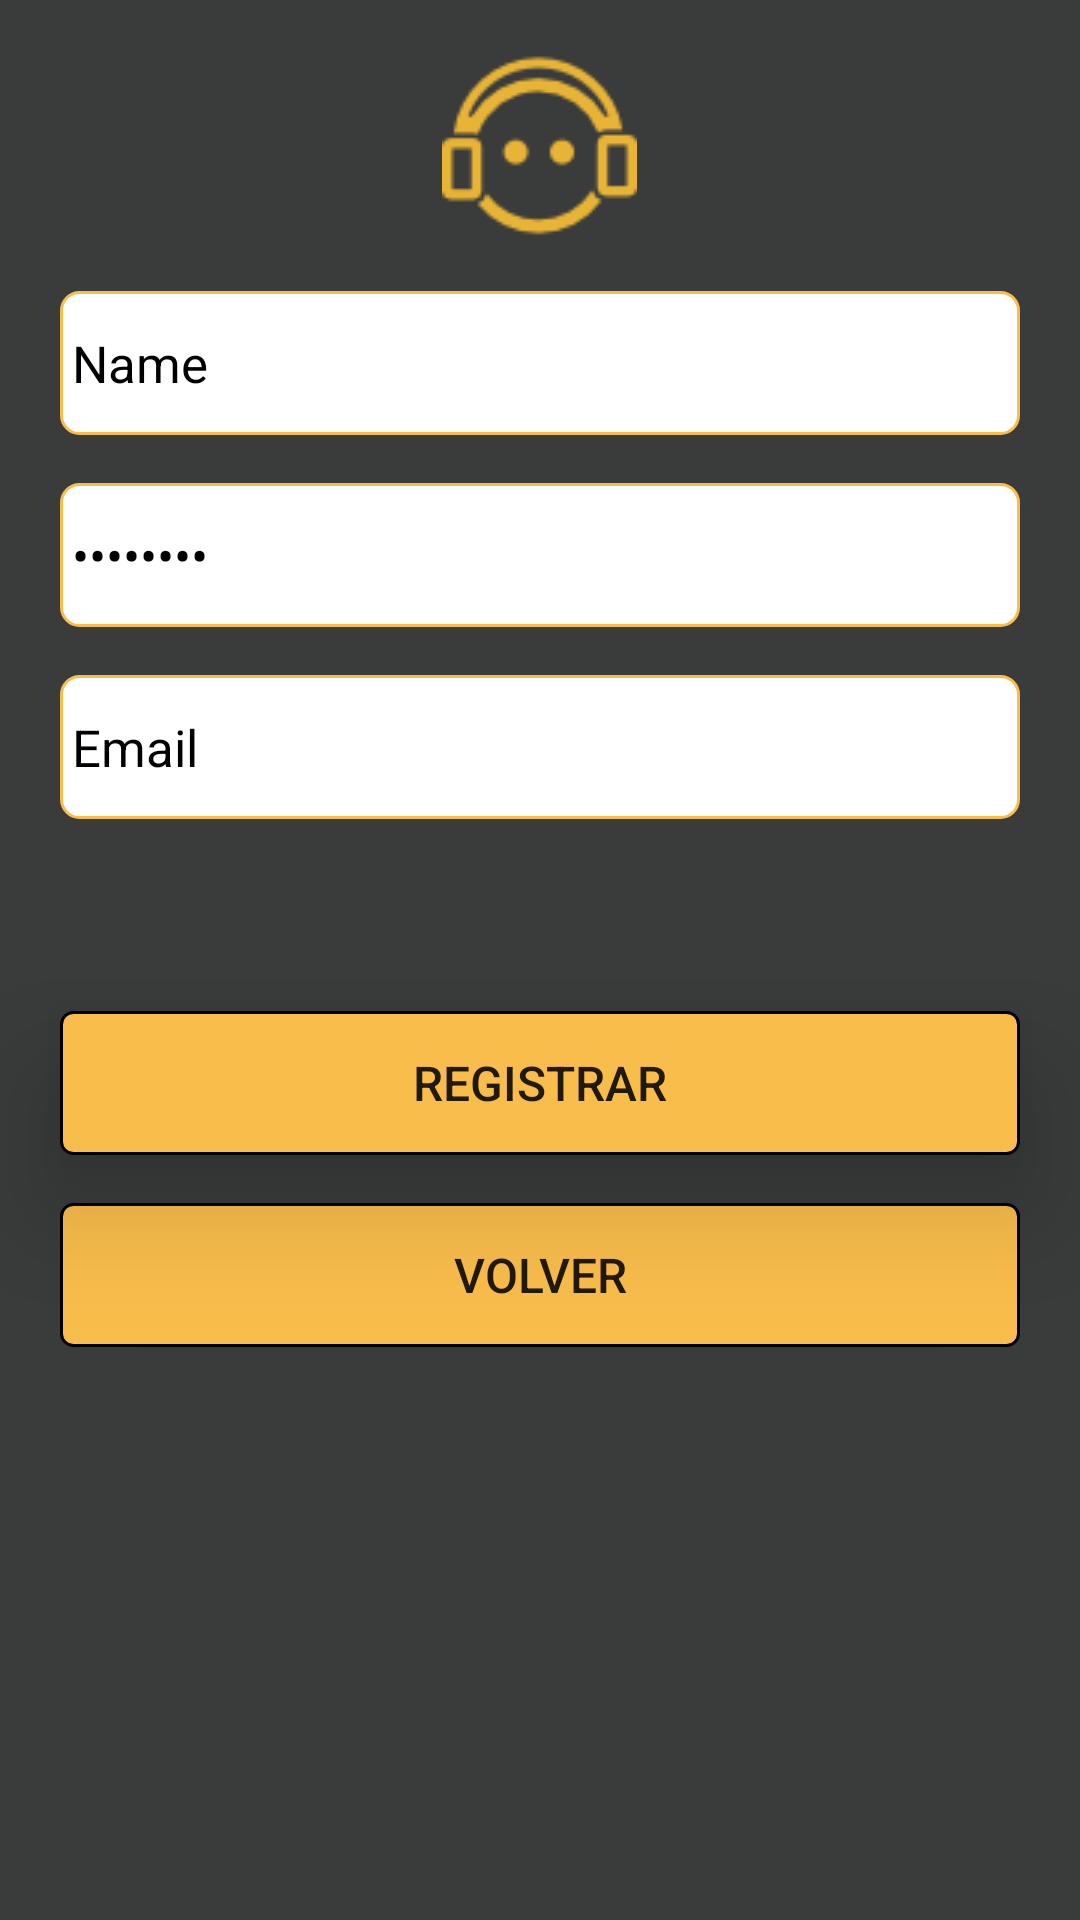

Point at icon controls on the screen. Image size 1080x1920, points as [x,y].
auriculares: [539,145]
